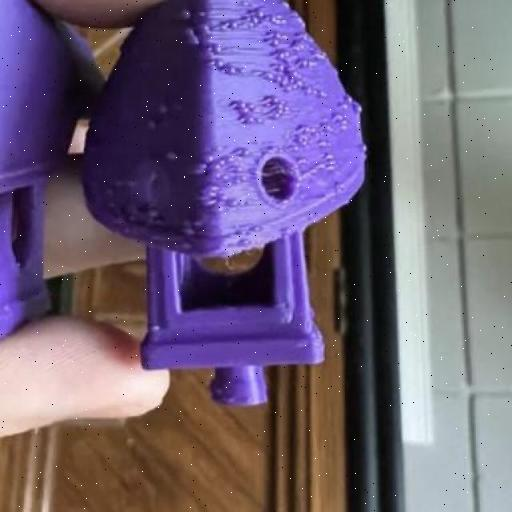blobs: (201, 183, 224, 209), (228, 100, 254, 118), (285, 64, 306, 86), (186, 162, 210, 180), (160, 144, 182, 163), (180, 216, 198, 238), (266, 34, 284, 52), (184, 26, 202, 44), (155, 101, 174, 118), (272, 106, 288, 124), (178, 5, 194, 21), (266, 76, 284, 90), (205, 58, 224, 70), (323, 161, 337, 177), (246, 116, 266, 127), (226, 197, 240, 212), (349, 101, 365, 114), (308, 83, 322, 97), (226, 64, 240, 78), (284, 80, 297, 95), (236, 148, 254, 158), (240, 236, 254, 248), (340, 99, 350, 114), (323, 152, 335, 164), (214, 41, 224, 53)
